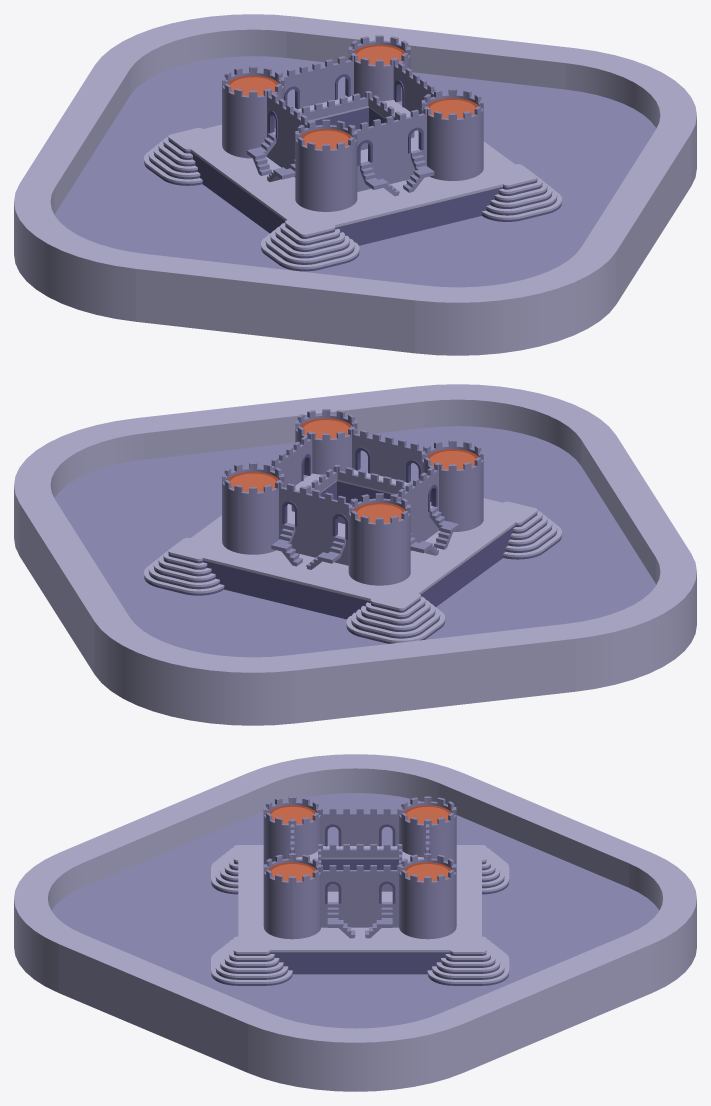
The model's file is Castle.fbx.
3 renders of one model, top to bottom at view 1: azimuth 30°, elevation 25°; view 2: azimuth 150°, elevation 25°; view 3: azimuth 270°, elevation 25°, orthographic. The views are drawn at different scales.
Visible parts, largest first — view 1: roof_flatSideBevel (×4), floor (×13), wall_cornerRounded% (×7), stairs_cornerRound% (×5), stairs (×4), battlement_rounded% (×4), wall (×3), stairs_corner% (×3); view 2: roof_flatSideBevel (×4), floor (×13), wall_cornerRounded% (×7), stairs_cornerRound% (×5), stairs (×4), battlement_rounded% (×4), wall (×3), stairs_corner% (×3); view 3: roof_flatSideBevel (×4), wall_cornerRounded% (×12), floor (×7), stairs_cornerRound% (×6), wall (×3), stairs (×2).
Boxes of the visible parts, x1,y1,x2,y2 form: roof_flatSideBevel (×4): (14, 14, 696, 355); floor (×13): (188, 141, 506, 245); wall_cornerRounded% (×7): (226, 69, 468, 211); stairs_cornerRound% (×5): (162, 147, 561, 271); stairs (×4): (147, 136, 547, 269); battlement_rounded% (×4): (226, 54, 468, 158); wall (×3): (304, 74, 402, 183); stairs_corner% (×3): (247, 133, 434, 196); roof_flatSideBevel (×4): (14, 384, 696, 725); floor (×13): (199, 514, 517, 619); wall_cornerRounded% (×7): (237, 442, 479, 585); stairs_cornerRound% (×5): (144, 520, 543, 643); stairs (×4): (158, 510, 558, 643); battlement_rounded% (×4): (237, 427, 479, 532); wall (×3): (303, 448, 401, 557); stairs_corner% (×3): (271, 506, 458, 569); roof_flatSideBevel (×4): (14, 754, 696, 1091); wall_cornerRounded% (×12): (263, 821, 456, 939); floor (×7): (265, 938, 454, 974); stairs_cornerRound% (×6): (211, 858, 509, 985); wall (×3): (346, 821, 373, 927); stairs (×2): (238, 950, 481, 985).
Bounding box in the file's own units: 253 × 45 × 253.
